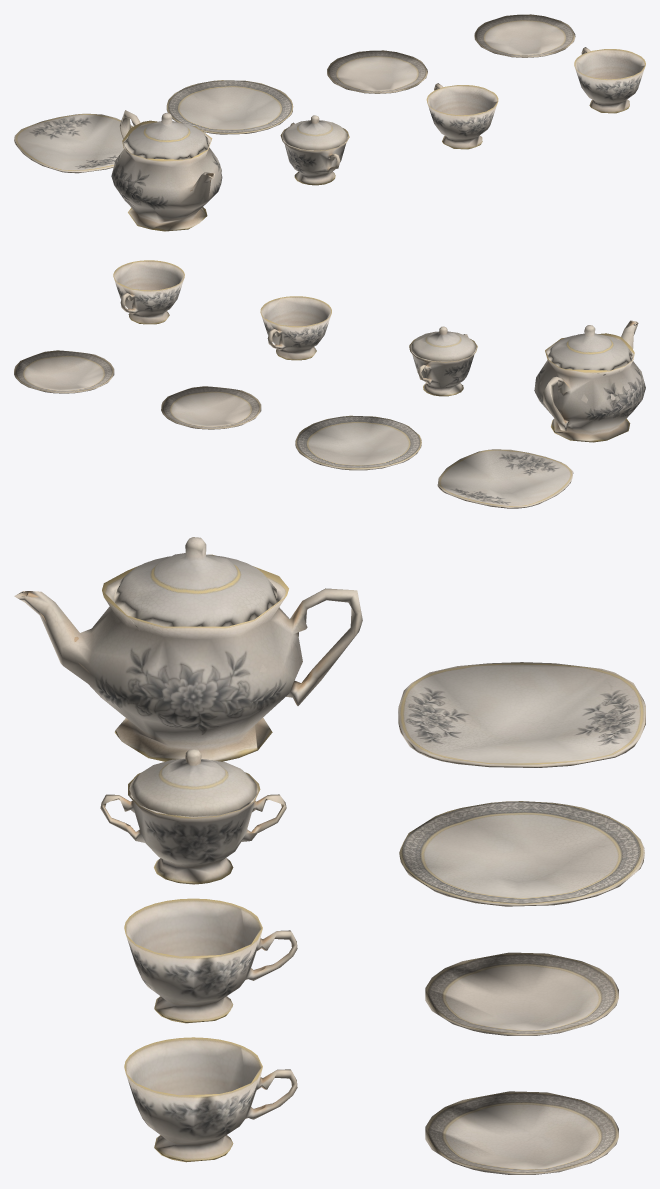
The picture shows the model from 3 angles, top to bottom: view 1: azimuth 30°, elevation 25°; view 2: azimuth 150°, elevation 25°; view 3: azimuth 270°, elevation 25°; orthographic projection. The views are drawn at different scales.
Visible parts, largest first — view 1: tea_set_01_teapot_01, tea_set_01_plate_large_circular_03, tea_set_01_plate_large_square_01, tea_set_01_cup_small_01, tea_set_01_cup_small_02, tea_set_01_saucer_circular_03, tea_set_01_saucer_circular_04, tea_set_01_teapot_01_lid, tea_set_01_sugar_cup_01, tea_set_01_sugar_cup_01_lid; view 2: tea_set_01_teapot_01, tea_set_01_plate_large_square_01, tea_set_01_plate_large_circular_03, tea_set_01_cup_small_01, tea_set_01_cup_small_02, tea_set_01_saucer_circular_04, tea_set_01_saucer_circular_03, tea_set_01_teapot_01_lid, tea_set_01_sugar_cup_01, tea_set_01_sugar_cup_01_lid; view 3: tea_set_01_teapot_01, tea_set_01_plate_large_square_01, tea_set_01_plate_large_circular_03, tea_set_01_cup_small_01, tea_set_01_cup_small_02, tea_set_01_saucer_circular_03, tea_set_01_saucer_circular_04, tea_set_01_teapot_01_lid, tea_set_01_sugar_cup_01, tea_set_01_sugar_cup_01_lid.
Boxes of the visible parts, x1=… form: tea_set_01_teapot_01: x1=111, y1=110, x2=222, y2=231; tea_set_01_plate_large_circular_03: x1=166, y1=80, x2=293, y2=134; tea_set_01_plate_large_square_01: x1=14, y1=113, x2=133, y2=173; tea_set_01_cup_small_01: x1=426, y1=83, x2=498, y2=149; tea_set_01_cup_small_02: x1=574, y1=47, x2=645, y2=113; tea_set_01_saucer_circular_03: x1=474, y1=14, x2=575, y2=57; tea_set_01_saucer_circular_04: x1=327, y1=50, x2=427, y2=93; tea_set_01_teapot_01_lid: x1=124, y1=113, x2=209, y2=159; tea_set_01_sugar_cup_01: x1=280, y1=122, x2=349, y2=185; tea_set_01_sugar_cup_01_lid: x1=282, y1=115, x2=347, y2=150; tea_set_01_teapot_01: x1=534, y1=320, x2=645, y2=442; tea_set_01_plate_large_square_01: x1=437, y1=449, x2=573, y2=508; tea_set_01_plate_large_circular_03: x1=295, y1=415, x2=421, y2=470; tea_set_01_cup_small_01: x1=260, y1=296, x2=331, y2=360; tea_set_01_cup_small_02: x1=113, y1=260, x2=184, y2=324; tea_set_01_saucer_circular_04: x1=161, y1=386, x2=261, y2=429; tea_set_01_saucer_circular_03: x1=14, y1=350, x2=114, y2=393; tea_set_01_teapot_01_lid: x1=548, y1=325, x2=632, y2=373; tea_set_01_sugar_cup_01: x1=409, y1=334, x2=477, y2=396; tea_set_01_sugar_cup_01_lid: x1=410, y1=326, x2=476, y2=361; tea_set_01_teapot_01: x1=14, y1=554, x2=362, y2=761; tea_set_01_plate_large_square_01: x1=398, y1=662, x2=645, y2=767; tea_set_01_plate_large_circular_03: x1=399, y1=801, x2=644, y2=906; tea_set_01_cup_small_01: x1=124, y1=898, x2=297, y2=1023; tea_set_01_cup_small_02: x1=124, y1=1037, x2=297, y2=1162; tea_set_01_saucer_circular_03: x1=425, y1=1091, x2=618, y2=1174; tea_set_01_saucer_circular_04: x1=425, y1=952, x2=618, y2=1035; tea_set_01_teapot_01_lid: x1=114, y1=537, x2=277, y2=626; tea_set_01_sugar_cup_01: x1=100, y1=772, x2=286, y2=884; tea_set_01_sugar_cup_01_lid: x1=129, y1=749, x2=256, y2=816.
Size of the model in its own units: 0.918 by 0.1647 by 0.4809.
1 material, 1 textured.
